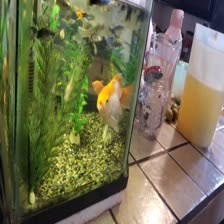Cuezo: (92, 75, 130, 131)
Guppy: (57, 66, 77, 103), (32, 25, 58, 47)
